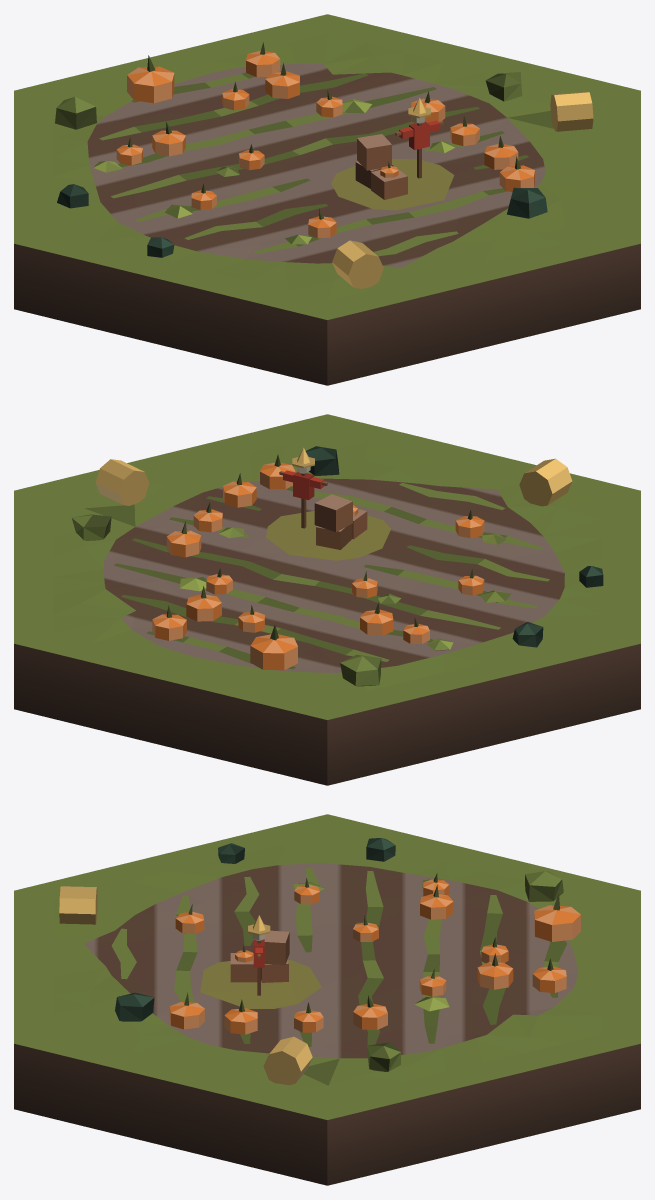
File: SM_Tile_PumpkinPatch_B.fbx
3 renders of one model, top to bottom at view 1: azimuth 30°, elevation 25°; view 2: azimuth 150°, elevation 25°; view 3: azimuth 270°, elevation 25°, orthographic.
Parts seen in each view (by area): view 1: SM_Tile_PumpkinPatch_B; view 2: SM_Tile_PumpkinPatch_B; view 3: SM_Tile_PumpkinPatch_B.
Boxes of the visible parts, x1=… form: SM_Tile_PumpkinPatch_B: x1=14, y1=14, x2=640, y2=385; SM_Tile_PumpkinPatch_B: x1=14, y1=414, x2=640, y2=785; SM_Tile_PumpkinPatch_B: x1=14, y1=814, x2=640, y2=1185.
Size of the model in its own units: 20 by 4.46 by 17.32.
